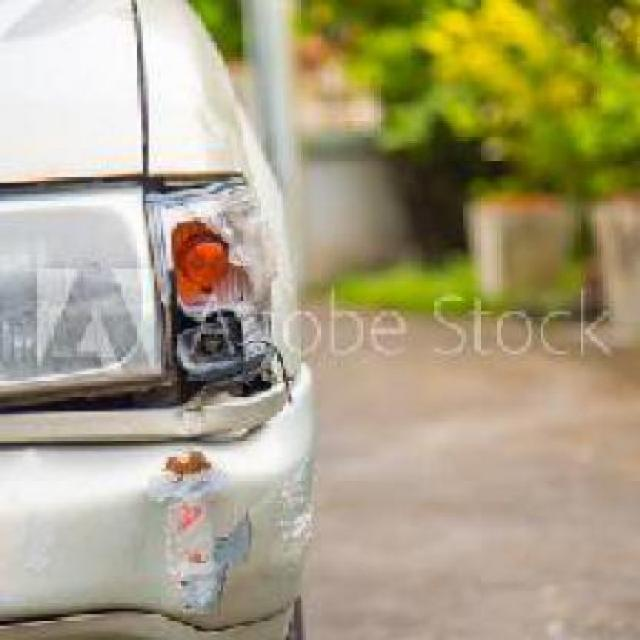damaged-head-light: (0, 179, 278, 392)
dent-or-scratch: (144, 454, 242, 622)
